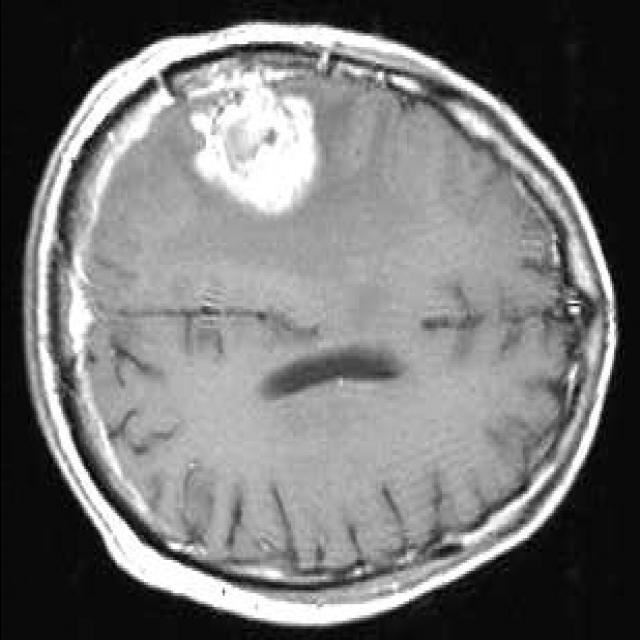tumor: (184, 69, 317, 218)
